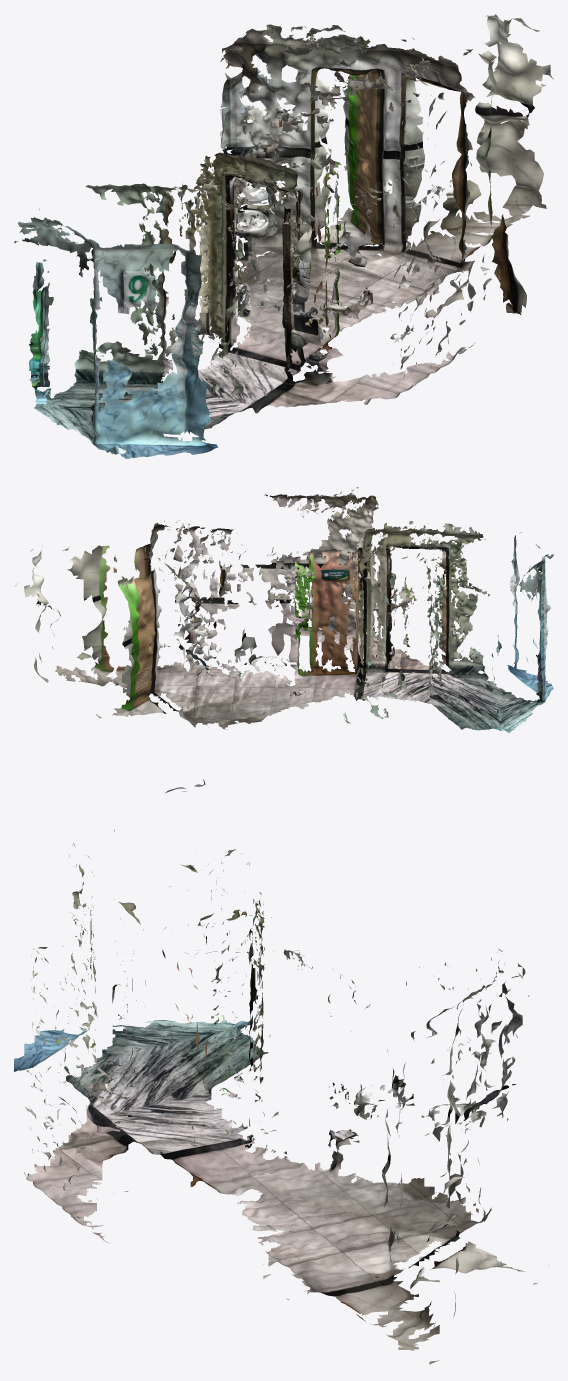
The model's file is 147399-TLT9ToiletDpnLift-tex.glb.
The picture shows the model from 3 angles, top to bottom: view 1: azimuth 30°, elevation 25°; view 2: azimuth 150°, elevation 25°; view 3: azimuth 270°, elevation 25°; orthographic projection. The views are drawn at different scales.
Parts seen in each view (by area): view 1: Node; view 2: Node; view 3: Node.
Part boxes in pixels (bbox=[...]): Node: bbox=[14, 14, 553, 458]; Node: bbox=[15, 487, 553, 733]; Node: bbox=[14, 779, 537, 1364].
Size of the model in its own units: 7.46 by 2.94 by 4.53.
17 materials, 17 textured.
